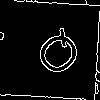Q: (25, 25, 87, 87)
